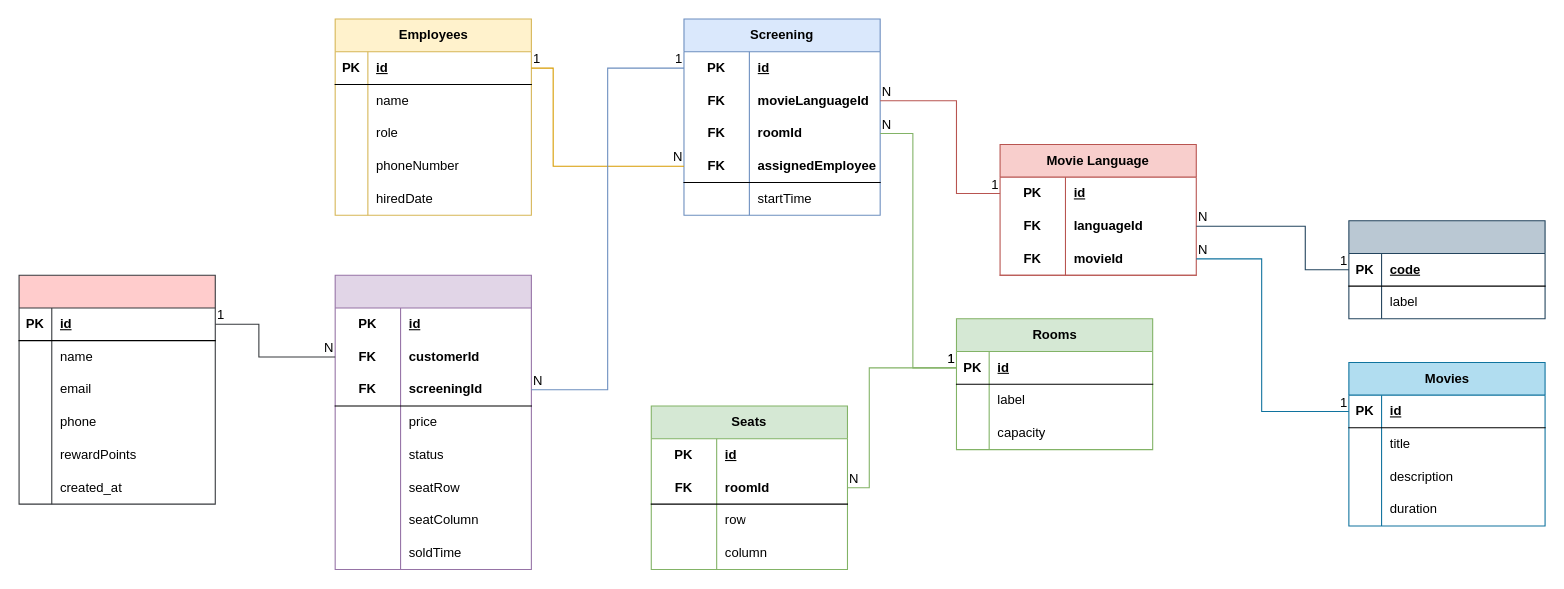
Some shapes in this 1564 by 589 pixel diagram are drawn without their labels. Each missing label, with the box of its shape:
Customers: (18, 274, 215, 504)
Languages: (1348, 220, 1545, 319)
Tickets: (334, 274, 531, 570)
